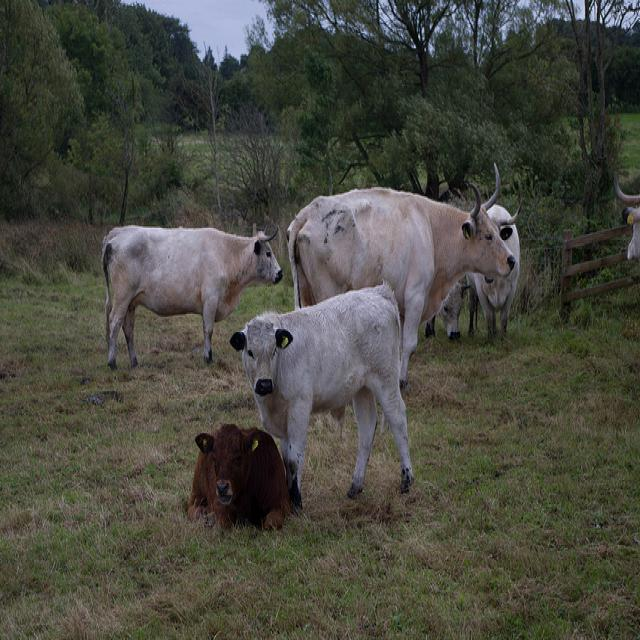cow: (285, 158, 516, 376), (236, 284, 414, 506), (100, 223, 280, 367), (187, 420, 294, 530), (464, 193, 522, 341), (613, 169, 639, 260)
